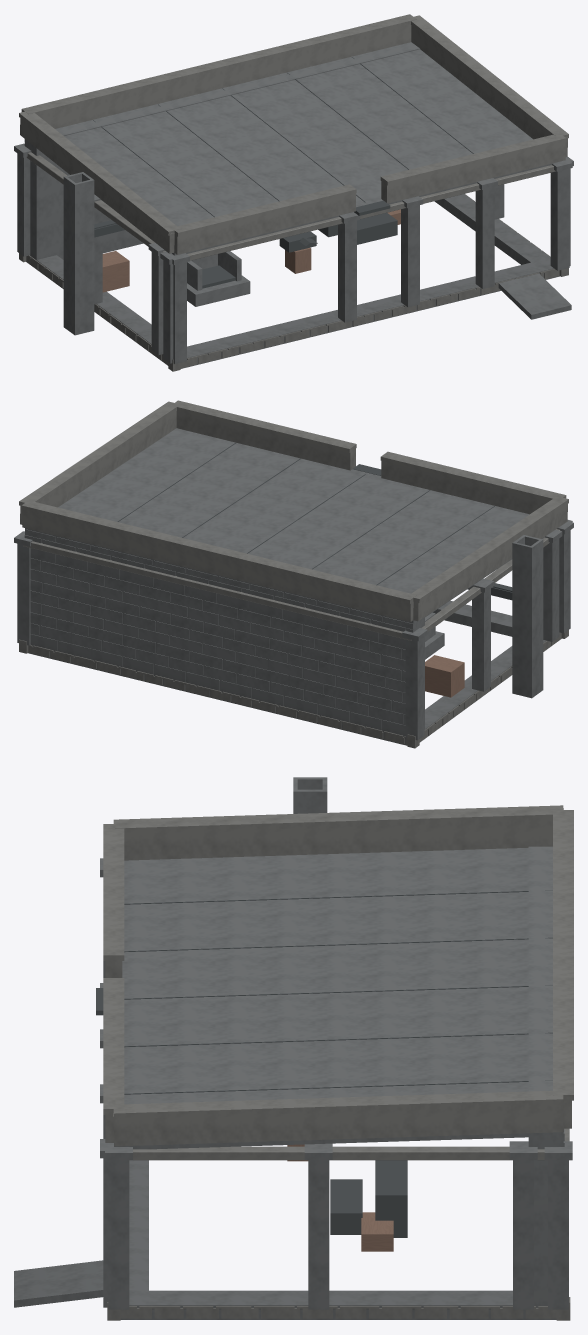
File: installed_smithy.glb
3 views of the same model, one above another, from view 1: azimuth 30°, elevation 25°; view 2: azimuth 150°, elevation 25°; view 3: azimuth 270°, elevation 25° (orthographic). The views are drawn at different scales.
Parts seen in each view (by area): view 1: world_emberholt.forge_hall.Draining terrace roof, world_emberholt.forge_hall.Terrace parapet and coping, world_emberholt.forge_hall.arcade_piers_0, world_emberholt.forge_hall.facade_foundation_core, world_emberholt.forge_hall.facade_walls, world_emberholt.forge_hall.smithy.external_flue, world_emberholt.forge_hall.arcade_piers_3, world_emberholt.forge_hall.facade_stone, world_emberholt.forge_hall.facade_timber, world_emberholt.forge_hall.smithy.material_ramp, world_emberholt.forge_hall.hearth_stone_plinth, world_emberholt.forge_hall.coal_bin (+7 smaller); view 2: world_emberholt.forge_hall.facade_masonry_skin, world_emberholt.forge_hall.Draining terrace roof, world_emberholt.forge_hall.Terrace parapet and coping, world_emberholt.forge_hall.arcade_piers_3, world_emberholt.forge_hall.facade_walls, world_emberholt.forge_hall.smithy.external_flue, world_emberholt.forge_hall.facade_stone, world_emberholt.forge_hall.facade_timber, world_emberholt.forge_hall.facade_foundation_core, world_emberholt.forge_hall.arcade_piers_1, world_emberholt.forge_hall.coal_bin, world_emberholt.forge_hall.Terrace slab seams; view 3: world_emberholt.forge_hall.Draining terrace roof, world_emberholt.forge_hall.Terrace parapet and coping, world_emberholt.forge_hall.arcade_piers_1, world_emberholt.forge_hall.facade_foundation_core, world_emberholt.forge_hall.facade_walls, world_emberholt.forge_hall.facade_stone, world_emberholt.forge_hall.facade_timber, world_emberholt.forge_hall.smithy.material_ramp, world_emberholt.forge_hall.Terrace slab seams, world_emberholt.forge_hall.ingot_work_bench, world_emberholt.forge_hall.forge_slag_catch, world_emberholt.forge_hall.arcade_piers_0 (+2 smaller).
Part boxes in pixels (x1,y1,x2,y2): world_emberholt.forge_hall.Draining terrace roof: (64, 49, 556, 255); world_emberholt.forge_hall.Terrace parapet and coping: (19, 14, 568, 254); world_emberholt.forge_hall.arcade_piers_0: (165, 158, 572, 363); world_emberholt.forge_hall.facade_foundation_core: (27, 194, 559, 368); world_emberholt.forge_hall.facade_walls: (25, 42, 419, 259); world_emberholt.forge_hall.smithy.external_flue: (63, 172, 94, 335); world_emberholt.forge_hall.arcade_piers_3: (14, 143, 182, 363); world_emberholt.forge_hall.facade_stone: (26, 194, 559, 368); world_emberholt.forge_hall.facade_timber: (26, 152, 555, 260); world_emberholt.forge_hall.smithy.material_ramp: (498, 273, 571, 319); world_emberholt.forge_hall.hearth_stone_plinth: (187, 275, 250, 306); world_emberholt.forge_hall.coal_bin: (102, 251, 129, 292); world_emberholt.forge_hall.facade_masonry_skin: (24, 529, 413, 735); world_emberholt.forge_hall.Draining terrace roof: (25, 428, 544, 624); world_emberholt.forge_hall.Terrace parapet and coping: (19, 400, 568, 621); world_emberholt.forge_hall.arcade_piers_3: (402, 521, 573, 740); world_emberholt.forge_hall.facade_walls: (25, 529, 424, 729); world_emberholt.forge_hall.smithy.external_flue: (512, 535, 543, 698); world_emberholt.forge_hall.facade_stone: (28, 600, 561, 744); world_emberholt.forge_hall.facade_timber: (23, 529, 560, 640); world_emberholt.forge_hall.facade_foundation_core: (28, 601, 560, 745); world_emberholt.forge_hall.arcade_piers_1: (14, 531, 32, 645); world_emberholt.forge_hall.coal_bin: (425, 655, 464, 697); world_emberholt.forge_hall.Terrace slab seams: (117, 442, 494, 585); world_emberholt.forge_hall.Draining terrace roof: (114, 847, 563, 1149); world_emberholt.forge_hall.Terrace parapet and coping: (103, 805, 573, 1146); world_emberholt.forge_hall.arcade_piers_1: (105, 1141, 572, 1309); world_emberholt.forge_hall.facade_foundation_core: (120, 1160, 556, 1319); world_emberholt.forge_hall.facade_walls: (528, 846, 563, 1305); world_emberholt.forge_hall.facade_stone: (120, 1306, 556, 1318); world_emberholt.forge_hall.facade_timber: (133, 1128, 569, 1160); world_emberholt.forge_hall.smithy.material_ramp: (14, 1260, 103, 1307); world_emberholt.forge_hall.Terrace slab seams: (124, 890, 552, 1094); world_emberholt.forge_hall.ingot_work_bench: (375, 1160, 407, 1237); world_emberholt.forge_hall.forge_slag_catch: (330, 1179, 362, 1234); world_emberholt.forge_hall.arcade_piers_0: (100, 858, 127, 1307).
Size of the model in its own units: 15.17 by 5.17 by 11.21.
5 materials, 4 textured.
